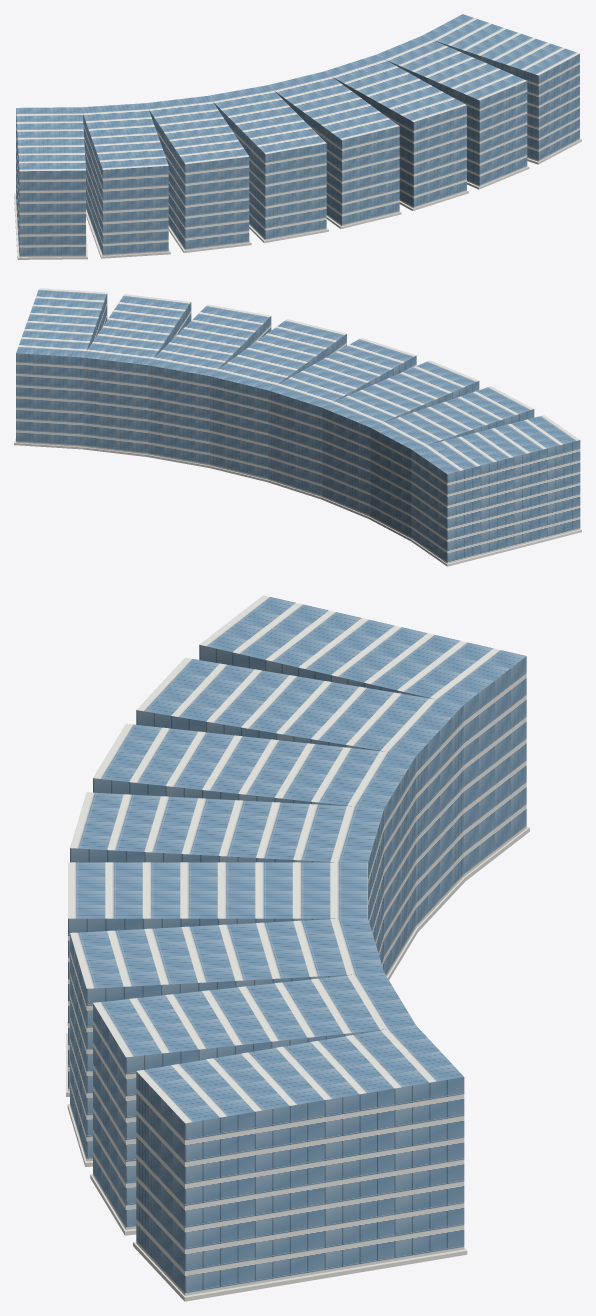
Rendered from hotel_over_tunnel.glb.
3 views of the same model, one above another, from view 1: azimuth 30°, elevation 25°; view 2: azimuth 150°, elevation 25°; view 3: azimuth 270°, elevation 25° (orthographic). The views are drawn at different scales.
Visible parts, largest first — view 1: hotel; view 2: hotel; view 3: hotel.
Part boxes in pixels (x1=…): hotel: x1=14, y1=14, x2=581, y2=259; hotel: x1=14, y1=288, x2=581, y2=566; hotel: x1=66, y1=595, x2=529, y2=1301.
Bounding box in the file's own units: 170 × 26.3 × 62.63.
Materials: 2 (1 with a texture image).
